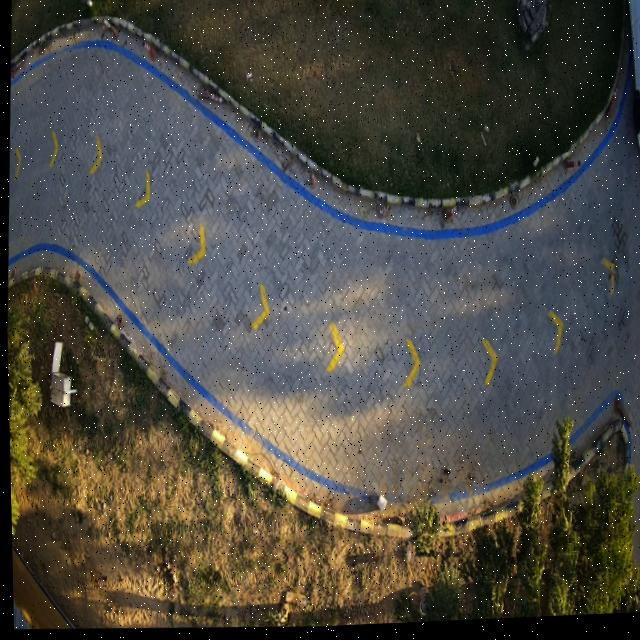car: (627, 0, 640, 158)
